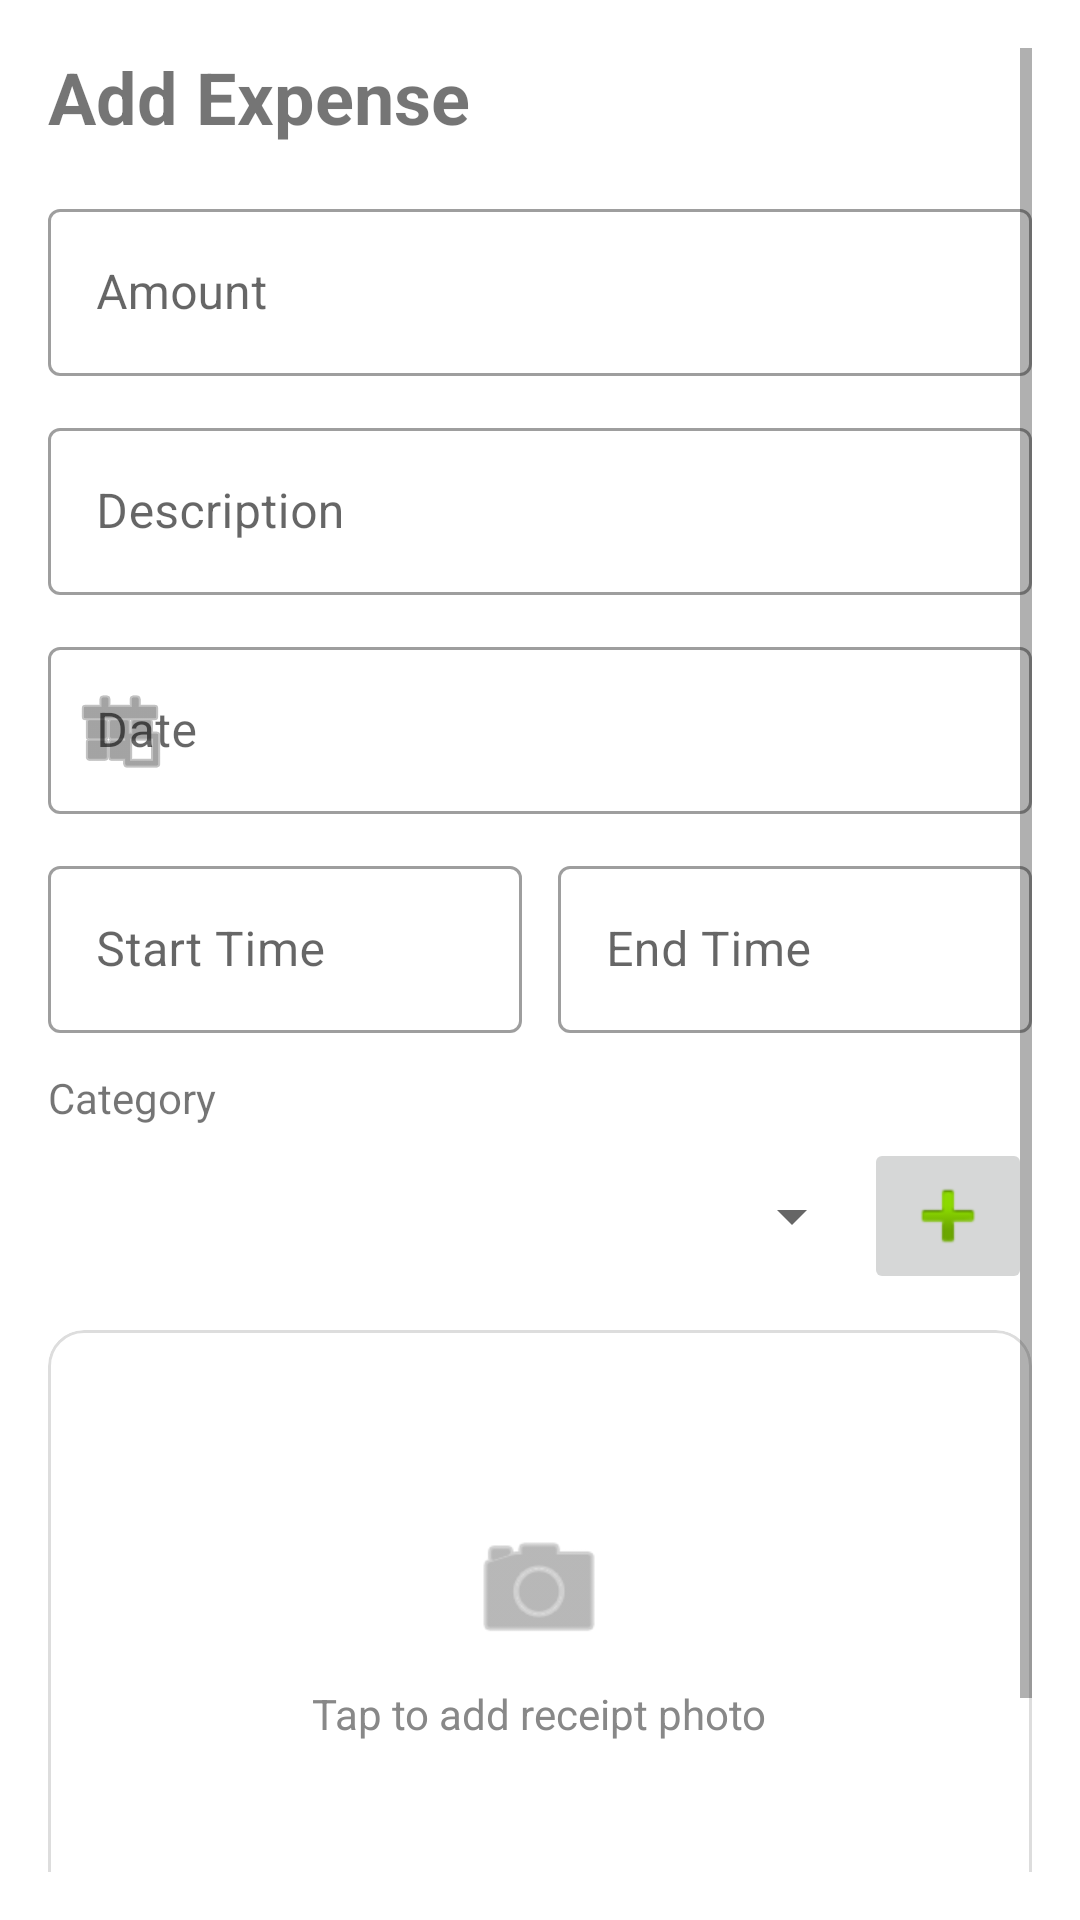

Icon click points for this 1080px×1920px phone screenshot, format [x,y]:
add: [954,1216]
camera: [539,1587]
